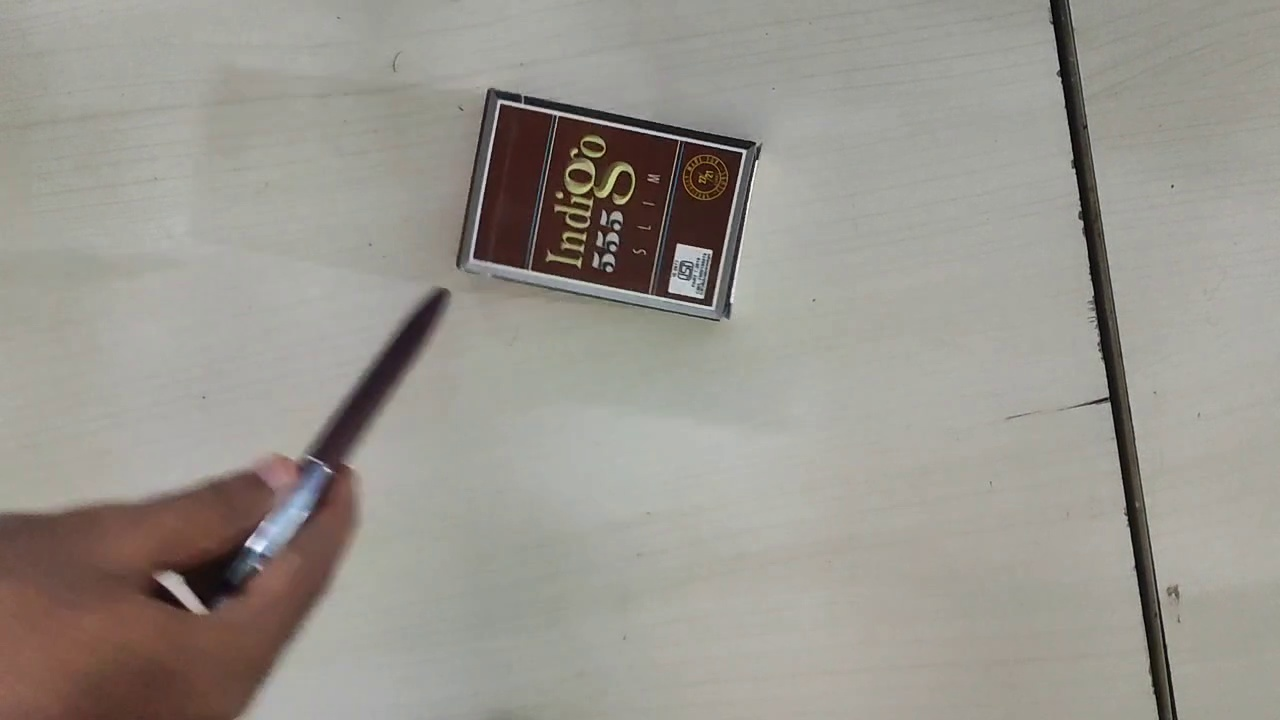BEX: (469, 98, 747, 307)
